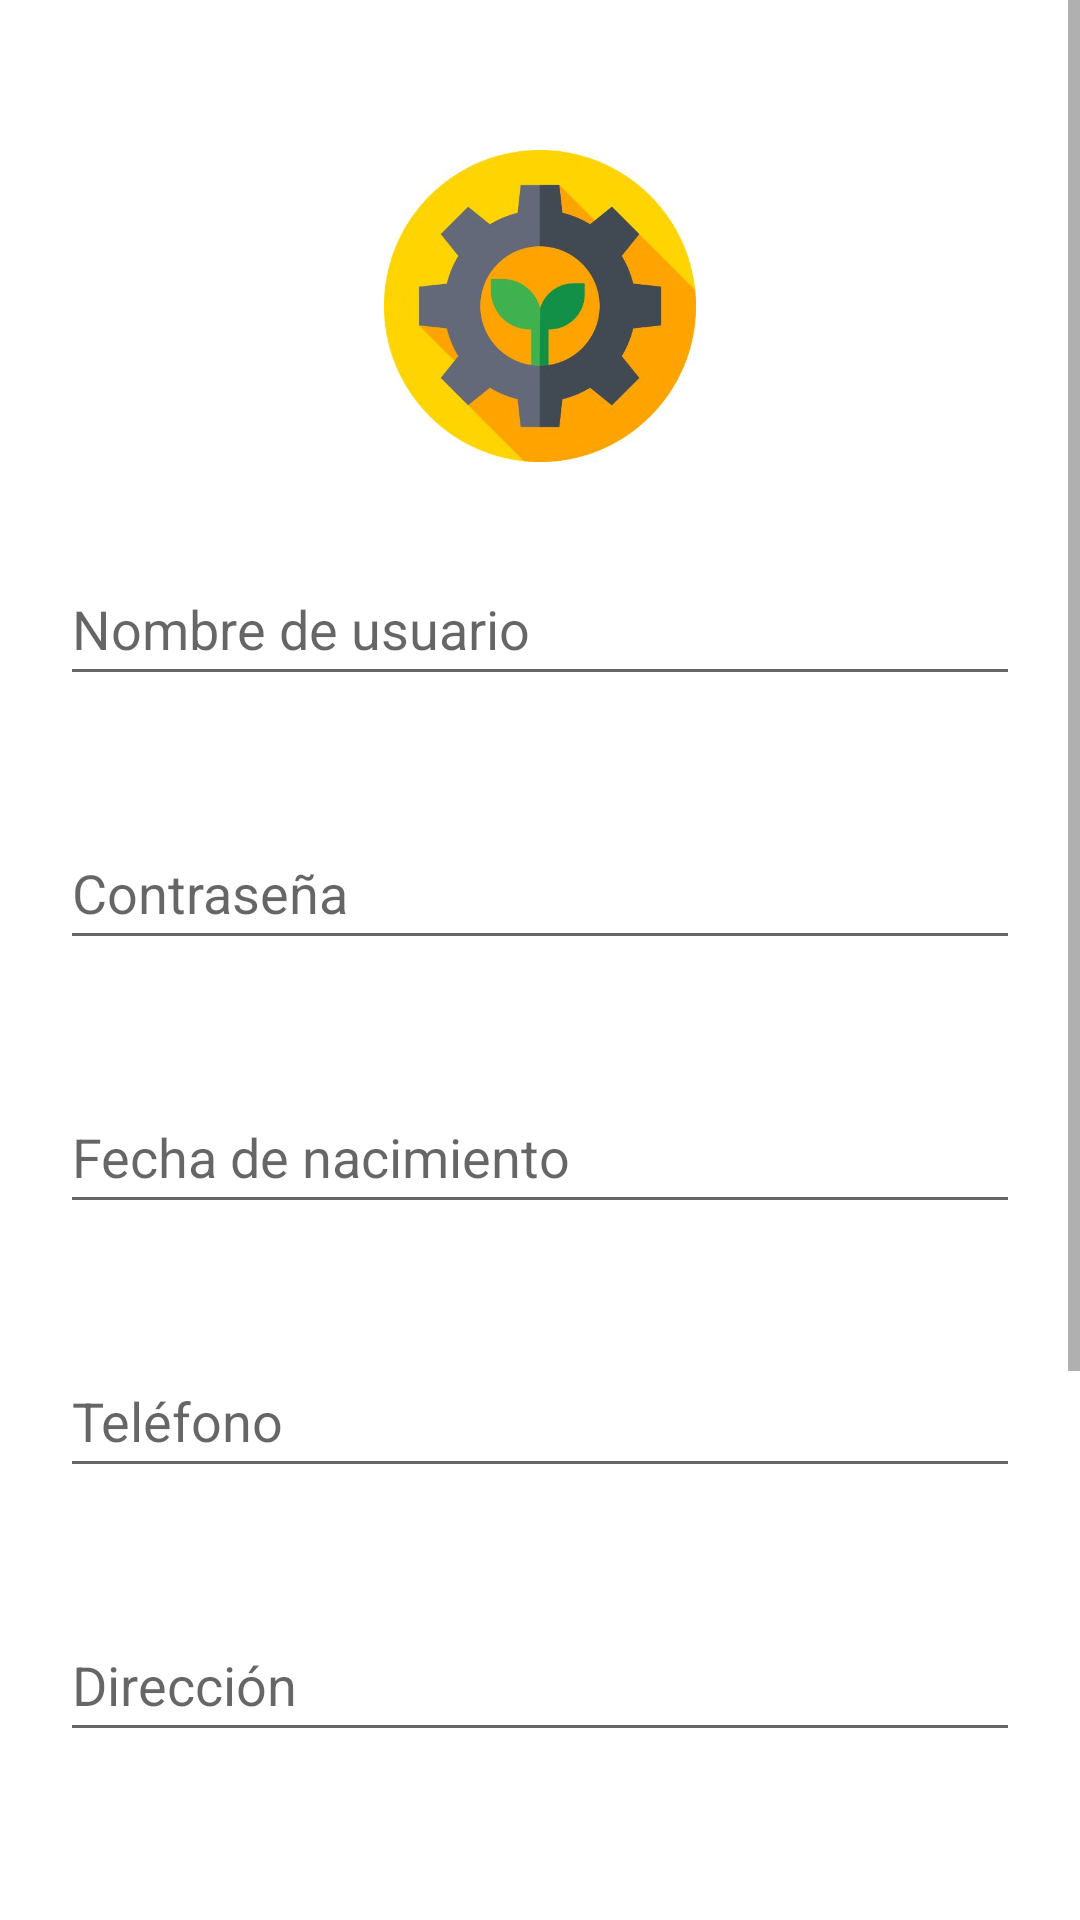

Named icons in this screenshot (1080x1920) and their bounding boxes, rect(x1, y1, x2, y2):
agro: rect(384, 150, 696, 462)
